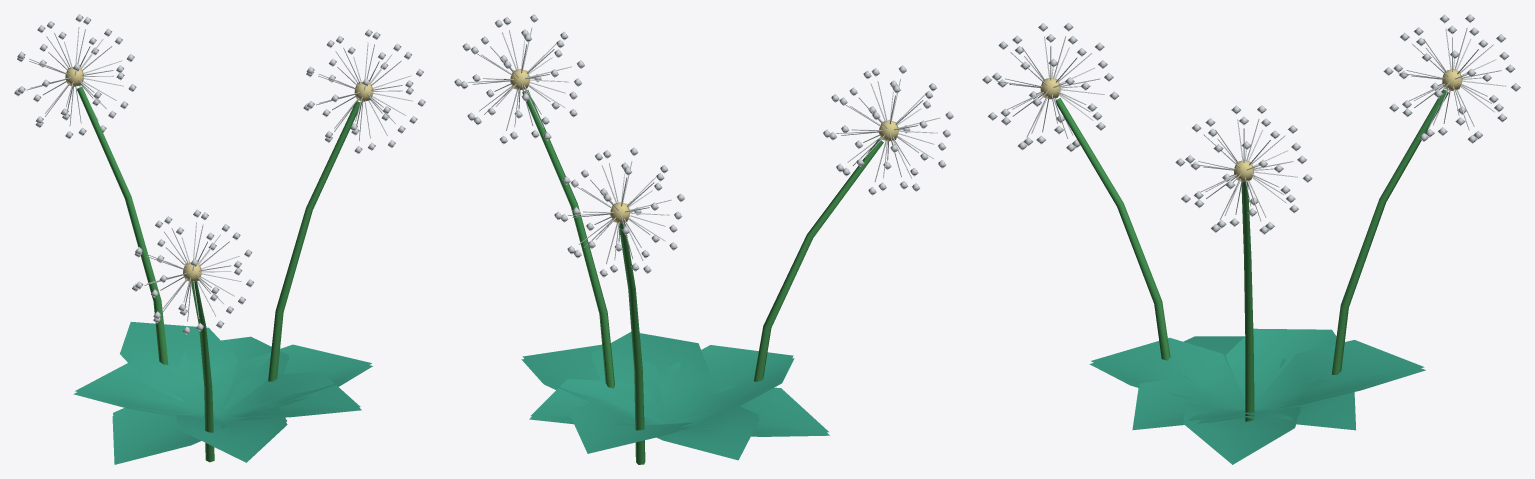
Rendered from ing_faelight_dandelion.gltf.
3 views of the same model, side by side, from view 1: azimuth 30°, elevation 25°; view 2: azimuth 150°, elevation 25°; view 3: azimuth 270°, elevation 25° (orthographic). The views are drawn at different scales.
Parts seen in each view (by area): view 1: ing_faelight_dandelion; view 2: ing_faelight_dandelion; view 3: ing_faelight_dandelion.
Part boxes in pixels (x1,y1,x2,y2): ing_faelight_dandelion: (14, 14, 425, 464); ing_faelight_dandelion: (454, 14, 953, 464); ing_faelight_dandelion: (982, 14, 1520, 464).
Size of what is drawn, in the model's own units: 0.3576 by 0.3266 by 0.4185.
